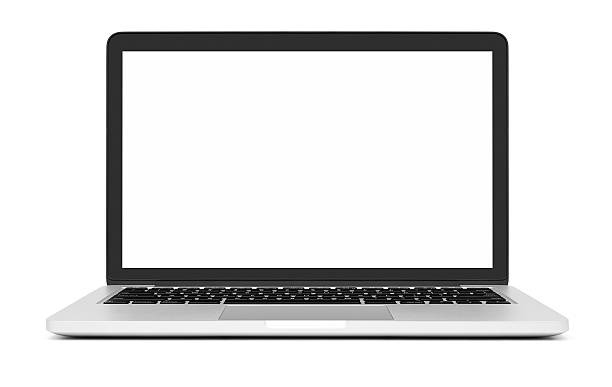laptop: (32, 23, 576, 351)
